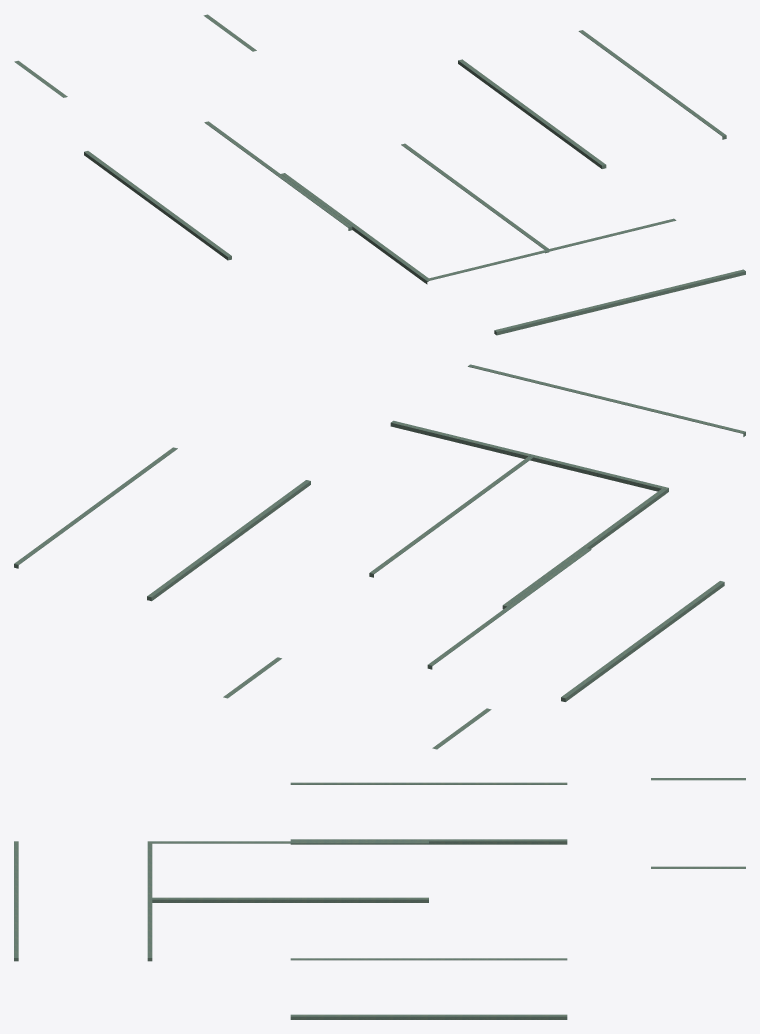
File: kd_stage_135b75_4_34_bounded.glb
3 views of the same model, one above another, from view 1: azimuth 30°, elevation 25°; view 2: azimuth 150°, elevation 25°; view 3: azimuth 270°, elevation 25° (orthographic). The views are drawn at different scales.
Visible parts, largest first — view 1: kd_stage_135b75_4_34_bounded; view 2: kd_stage_135b75_4_34_bounded; view 3: kd_stage_135b75_4_34_bounded.
Part boxes in pixels (bbox=[...]): kd_stage_135b75_4_34_bounded: bbox=[14, 14, 745, 335]; kd_stage_135b75_4_34_bounded: bbox=[14, 364, 745, 749]; kd_stage_135b75_4_34_bounded: bbox=[14, 778, 745, 1019].
Bounding box in the file's own units: 3.3 × 0.1245 × 4.37.
1 material, 1 textured.
